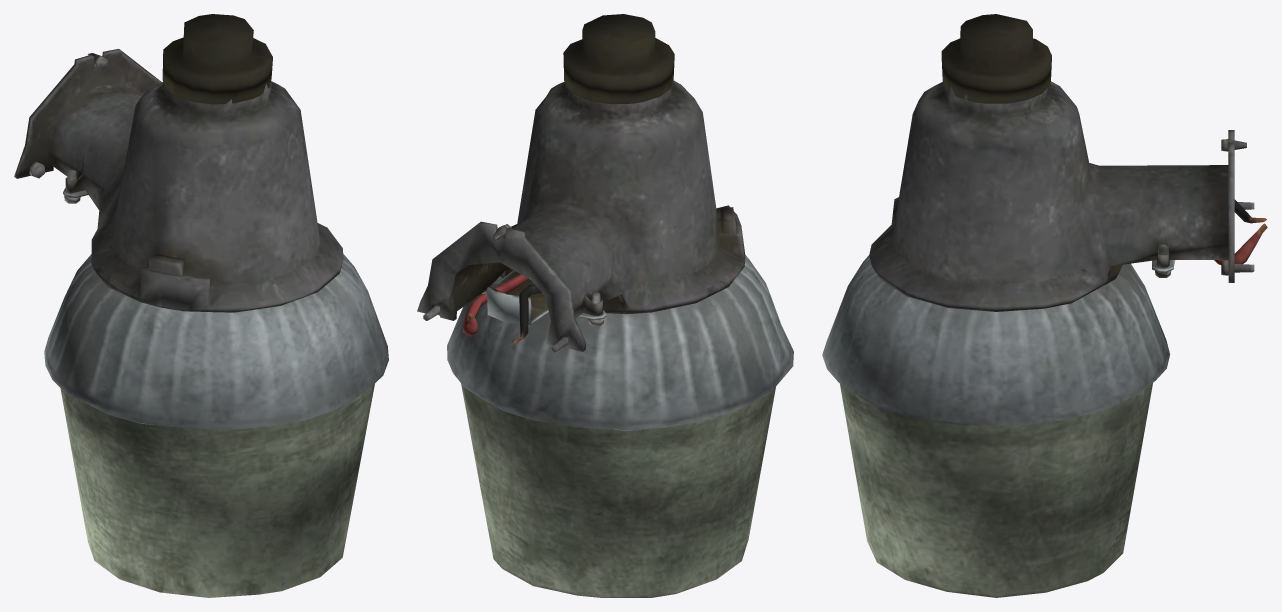
File: security_light.glb
3 views of the same model, side by side, from view 1: azimuth 30°, elevation 25°; view 2: azimuth 150°, elevation 25°; view 3: azimuth 270°, elevation 25° (orthographic).
Parts seen in each view (by area): view 1: security_light, security_light_glass; view 2: security_light, security_light_glass; view 3: security_light, security_light_glass.
Boxes of the visible parts, <box> form: security_light: <box>14,14,388,429</box>; security_light_glass: <box>60,384,374,597</box>; security_light: <box>417,14,793,430</box>; security_light_glass: <box>461,383,775,597</box>; security_light: <box>822,14,1267,425</box>; security_light_glass: <box>840,383,1152,597</box>.
Size of the model in its own units: 0.3232 by 0.531 by 0.4172.
2 materials, 2 textured.
